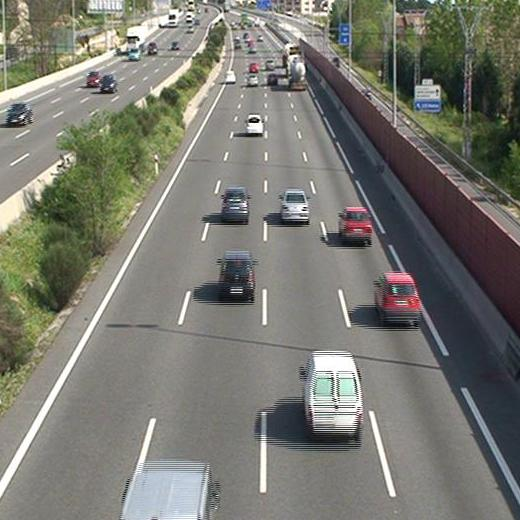car: (374, 274, 420, 324), (218, 252, 256, 299), (339, 208, 371, 243), (221, 188, 250, 221), (280, 191, 310, 221), (245, 114, 264, 133), (267, 73, 278, 85), (247, 74, 258, 86), (226, 71, 236, 82), (265, 60, 275, 70), (249, 63, 258, 71)
tank-truck: (287, 53, 307, 88)
van: (304, 352, 364, 437)
